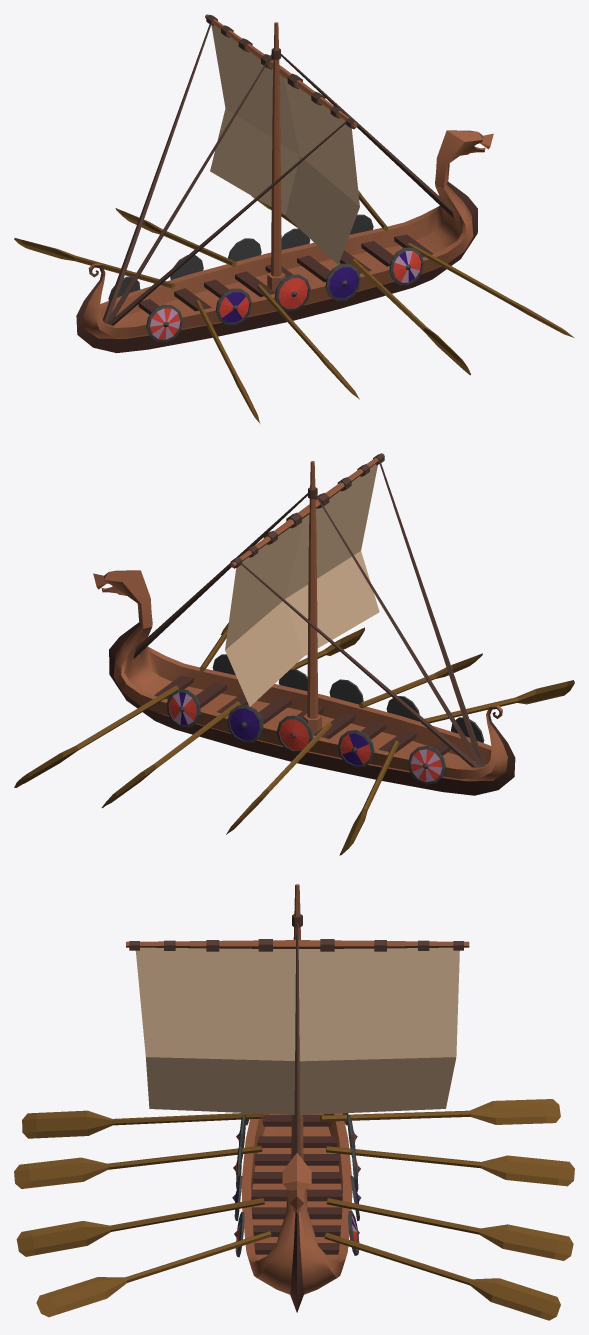
The model's file is World_Viking_LongShip_v1.fbx.
The picture shows the model from 3 angles, top to bottom: view 1: azimuth 30°, elevation 25°; view 2: azimuth 150°, elevation 25°; view 3: azimuth 270°, elevation 25°; orthographic projection. The views are drawn at different scales.
Parts seen in each view (by area): view 1: VikingShip; view 2: VikingShip; view 3: VikingShip.
Part boxes in pixels (box(x1,y1,x2,y2)): VikingShip: box(14, 14, 574, 423); VikingShip: box(14, 453, 574, 855); VikingShip: box(14, 884, 574, 1320).
Bounding box in the file's own units: 3358 × 2320 × 3384.
